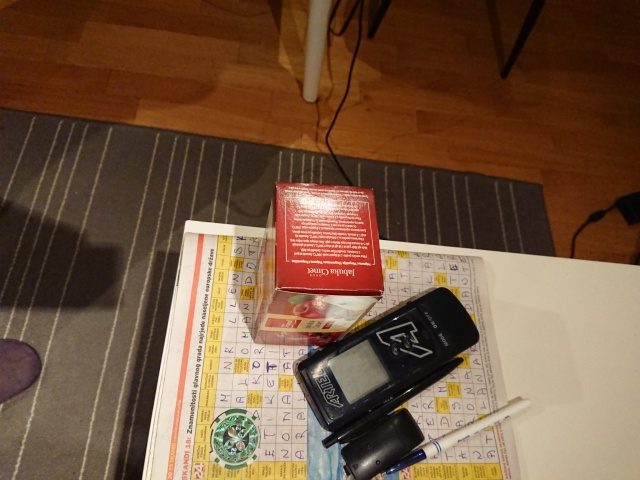Franck Apple Cinnamon Tea 60g: (249, 178, 389, 349)
